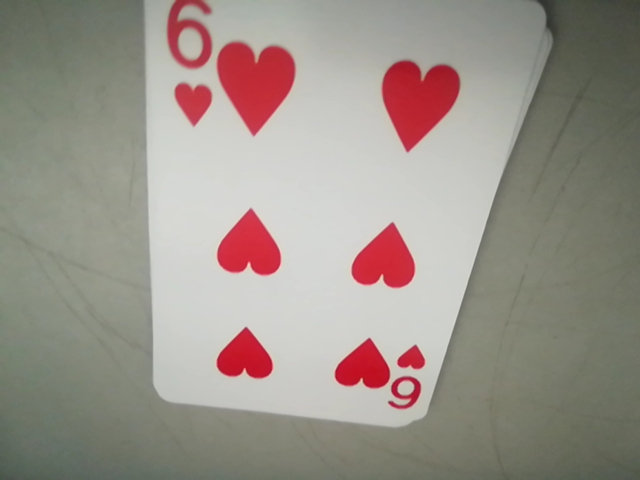hx 6: (387, 343, 431, 411)
